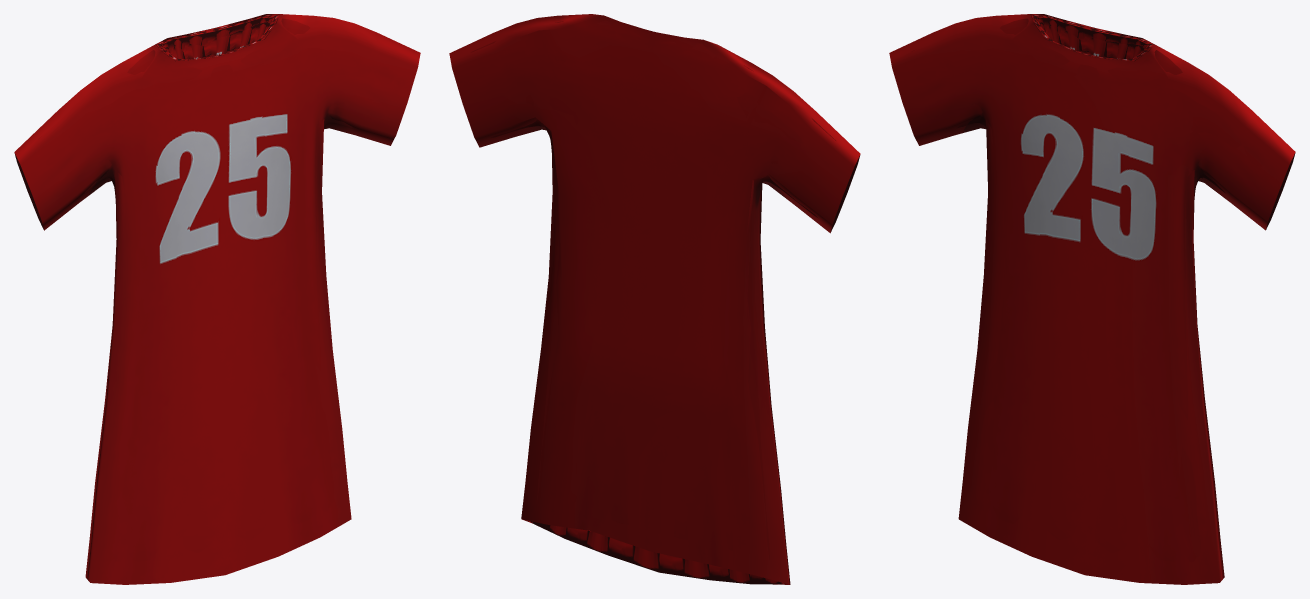
The model's file is Shirt.fbx.
3 renders of one model, left to right at view 1: azimuth 30°, elevation 25°; view 2: azimuth 150°, elevation 25°; view 3: azimuth 330°, elevation 25°, orthographic.
Parts seen in each view (by area): view 1: TPTshirt_hight, TPTshirt_low; view 2: TPTshirt_low, TPTshirt_middle; view 3: TPTshirt_hight, TPTshirt_low.
Boxes of the visible parts, x1=… form: TPTshirt_hight: x1=45, y1=18, x2=394, y2=562; TPTshirt_low: x1=14, y1=14, x2=420, y2=584; TPTshirt_low: x1=449, y1=14, x2=860, y2=584; TPTshirt_middle: x1=470, y1=20, x2=835, y2=584; TPTshirt_hight: x1=916, y1=16, x2=1264, y2=562; TPTshirt_low: x1=889, y1=14, x2=1295, y2=584.
Bounding box in the file's own units: 42.28 × 53.97 × 2.23.
